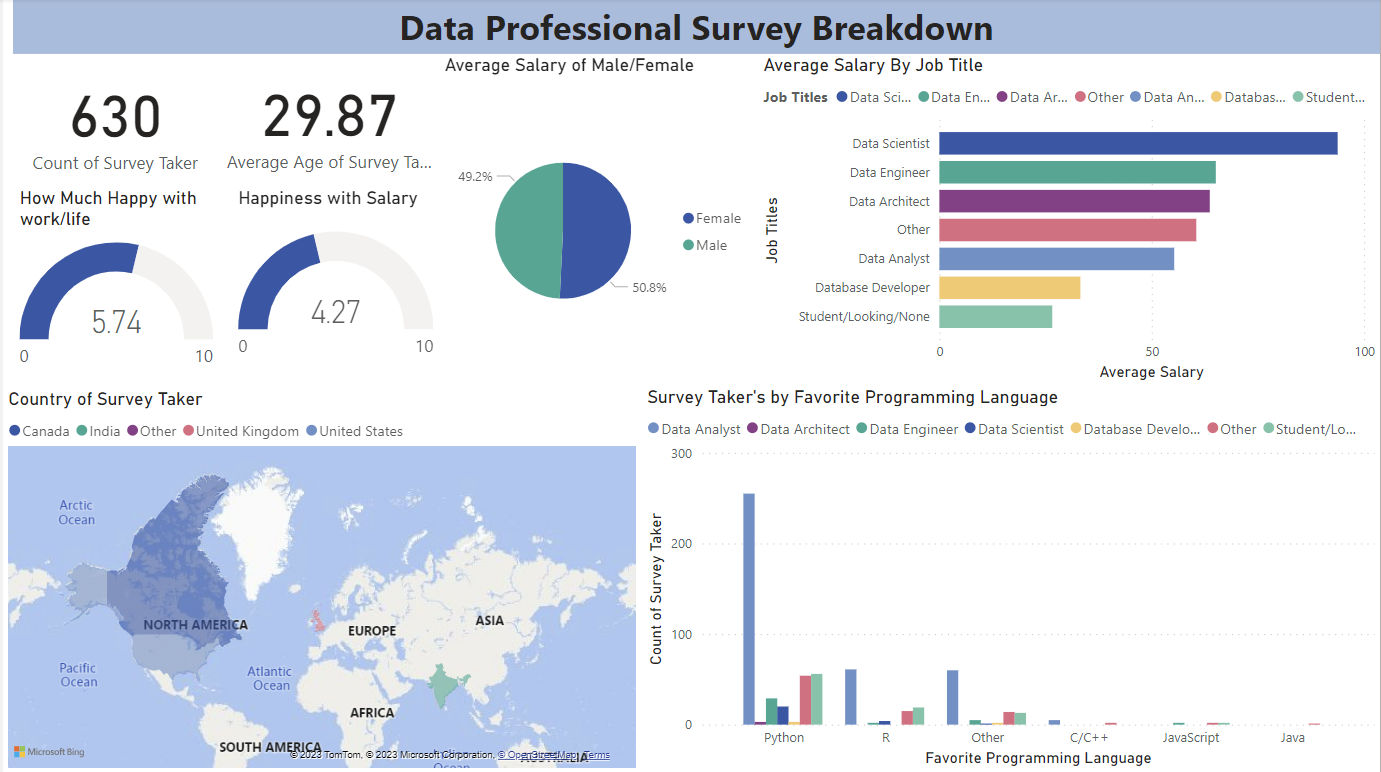

The page's visual inventory and layout, read from the dashboard file:
{"tool":"powerbi","page":{"name":"Page 1","canvas":[1280,720],"ordinal":0},"visuals":[{"type":"textbox","box":[9.6,0,1271,52.1],"z":0},{"type":"card","fields":{"Values":["Count(Data Professional Survey.Unique ID)"]},"box":[9.6,52.1,190.6,123.4],"z":1},{"type":"card","fields":{"Values":["Avg(Data Professional Survey.Q10 - Current Age)"]},"box":[200.6,52.8,205.1,122.2],"z":2},{"type":"barChart","title":"Average Salary By Job Title","fields":{"Category":["Data Professional Survey.Q1 - Which Title Best Fits your Current Role?.1"],"Y":["Avg(Data Professional Survey.Average Salary)"],"Series":["Data Professional Survey.Q1 - Which Title Best Fits your Current Role?.1"]},"box":[702,52.1,578.6,308.5],"z":3},{"type":"clusteredColumnChart","title":"Survey Taker''s by Favorite Programming Language","fields":{"Category":["Data Professional Survey.Q5 - Favorite Programming Language.1"],"Y":["CountNonNull(Data Professional Survey.Unique ID)"],"Series":["Data Professional Survey.Q1 - Which Title Best Fits your Current Role?.1"]},"box":[594.3,360.5,686.3,359],"z":4},{"type":"filledMap","title":"Country of Survey Taker","fields":{"Category":["Data Professional Survey.Q11 - Which Country do you live in?.1"],"Series":["Data Professional Survey.Q11 - Which Country do you live in?.1"]},"box":[0,362,594.3,357.5],"z":5},{"type":"gauge","title":"How Much Happy with work/life","fields":{"Y":["Avg(Data Professional Survey.Q6 - How Happy are you in your Current Position with the following? (Work/Life Balance))"],"MinValue":["Min(Data Professional Survey.Q6 - How Happy are you in your Current Position with the following? (Work/Life Balance))"],"MaxValue":["Max(Data Professional Survey.Q6 - How Happy are you in your Current Position with the following? (Work/Life Balance))"]},"box":[10.6,175,190.1,187],"z":6},{"type":"gauge","title":"Happiness with Salary","fields":{"Y":["Avg(Data Professional Survey.Q6 - How Happy are you in your Current Position with the following? (Salary))"],"MinValue":["Min(Data Professional Survey.Q6 - How Happy are you in your Current Position with the following? (Salary))"],"MaxValue":["Max(Data Professional Survey.Q6 - How Happy are you in your Current Position with the following? (Salary))"]},"box":[214.2,175,191.6,187],"z":7},{"type":"pieChart","title":"Average Salary of Male/Female","fields":{"Category":["Data Professional Survey.Q9 - Male/Female?"],"Y":["Avg(Data Professional Survey.Average Salary)"]},"box":[405.8,52.8,295.6,309.2],"z":8}]}

Visuals, with their boxes in screenshot pixels (x1, y1, x2, y2), scaled from the page's 1280x720 canvas onto the 1381x772 screenshot:
textbox: 10:0:1380:56
card - Count(Data Professional Survey.Unique ID): 10:56:216:188
card - Avg(Data Professional Survey.Q10 - Current Age): 216:57:438:188
"Average Salary By Job Title" barChart: 757:56:1380:387
"Survey Taker''s by Favorite Programming Language" clusteredColumnChart: 641:387:1380:771
"Country of Survey Taker" filledMap: 0:388:641:771
"How Much Happy with work/life" gauge: 11:188:217:388
"Happiness with Salary" gauge: 231:188:438:388
"Average Salary of Male/Female" pieChart: 438:57:757:388
